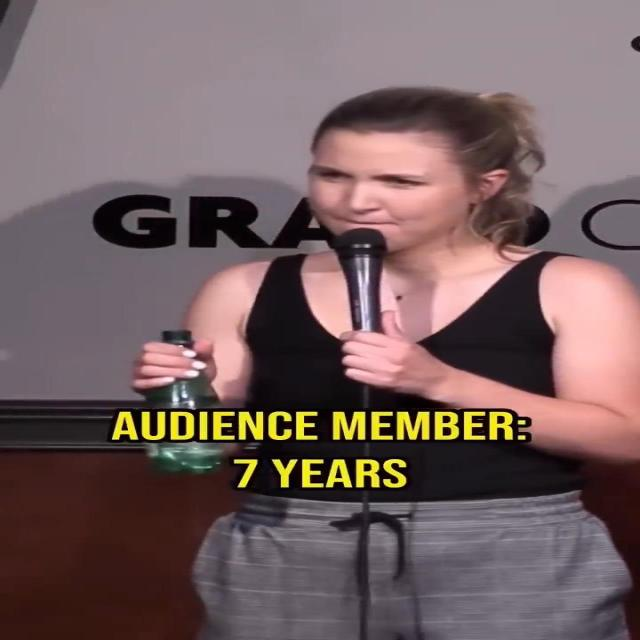NO-Mask: (302, 138, 492, 253)
